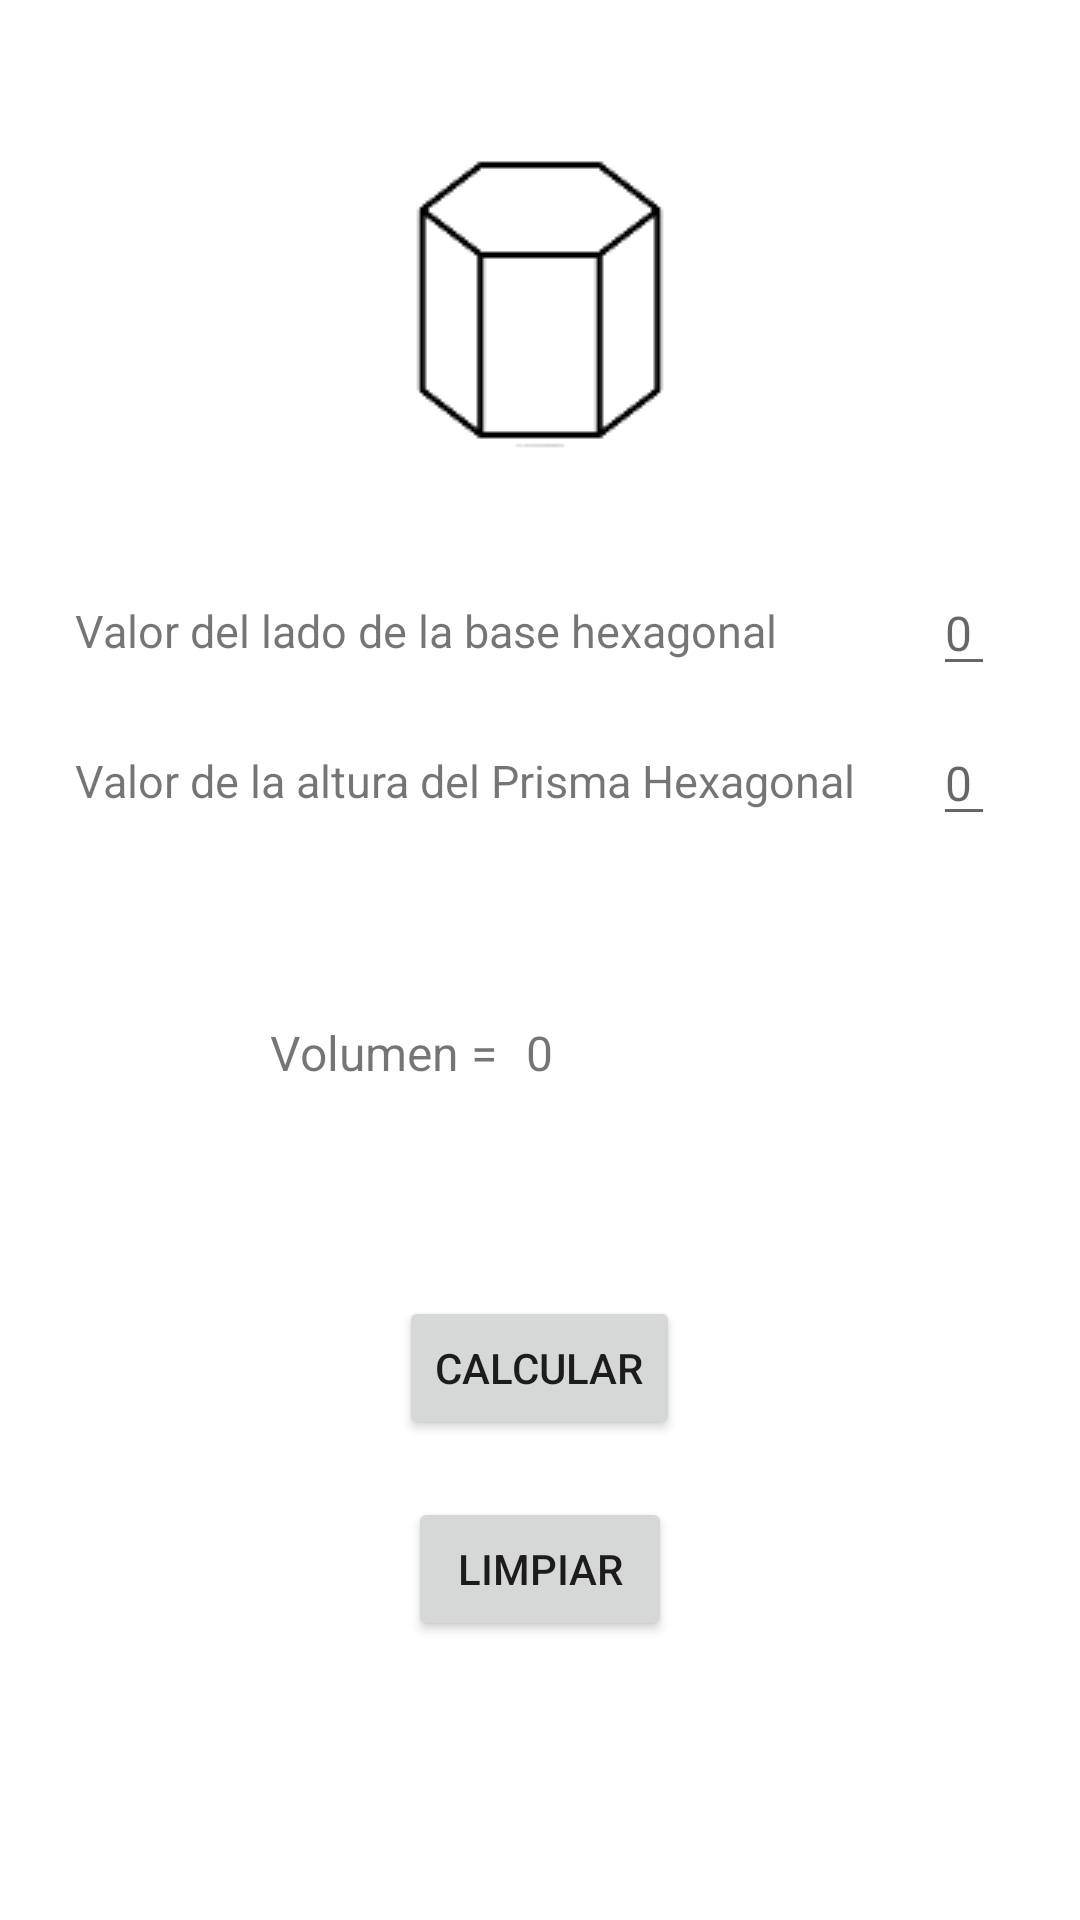

Where icons sit on this 1080px×1920px app screen, as (x1, y1, x2, y2):
prismahexagonal: (417, 161, 663, 447)
